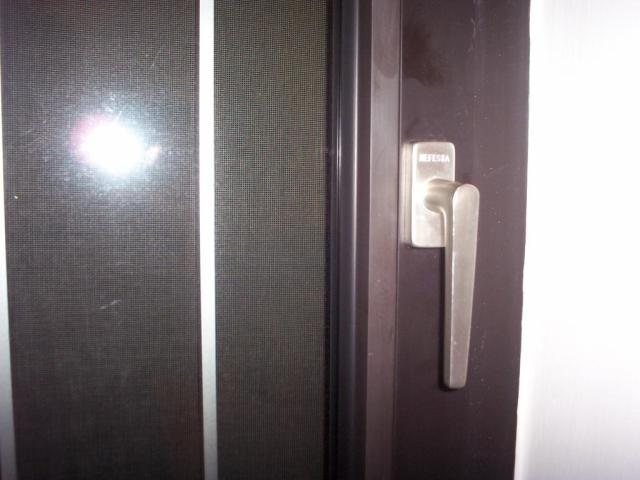Door-handle: (404, 140, 480, 390)
